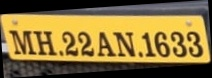character: (9, 29, 36, 55), (31, 30, 58, 56), (112, 31, 137, 57), (97, 30, 116, 57), (185, 30, 203, 57), (153, 30, 170, 58), (169, 31, 187, 57), (61, 30, 78, 56), (77, 30, 94, 56), (140, 31, 156, 57)
